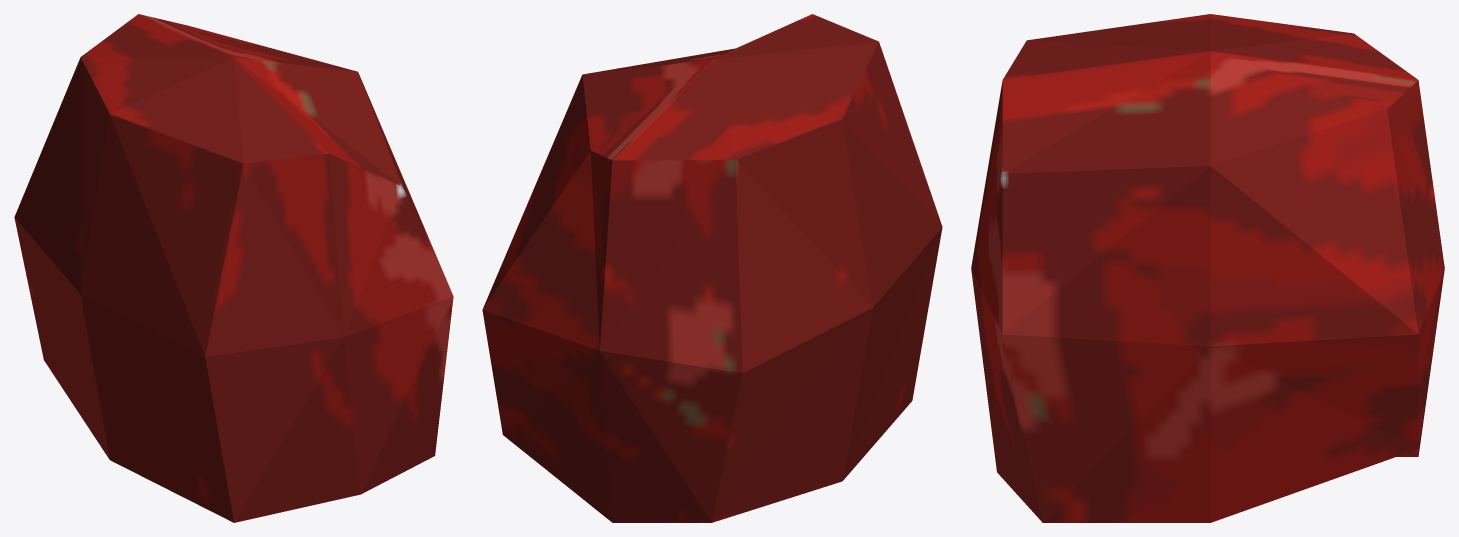
The model's file is gib.obj.
3 renders of one model, left to right at view 1: azimuth 30°, elevation 25°; view 2: azimuth 150°, elevation 25°; view 3: azimuth 270°, elevation 25°, orthographic. The views are drawn at different scales.
Parts seen in each view (by area): view 1: Cube; view 2: Cube; view 3: Cube.
Boxes of the visible parts, bbox=[...] form: Cube: bbox=[14, 14, 453, 522]; Cube: bbox=[482, 14, 942, 522]; Cube: bbox=[971, 14, 1444, 522].
Size of the model in its own units: 0.9447 by 1.12 by 1.19.
